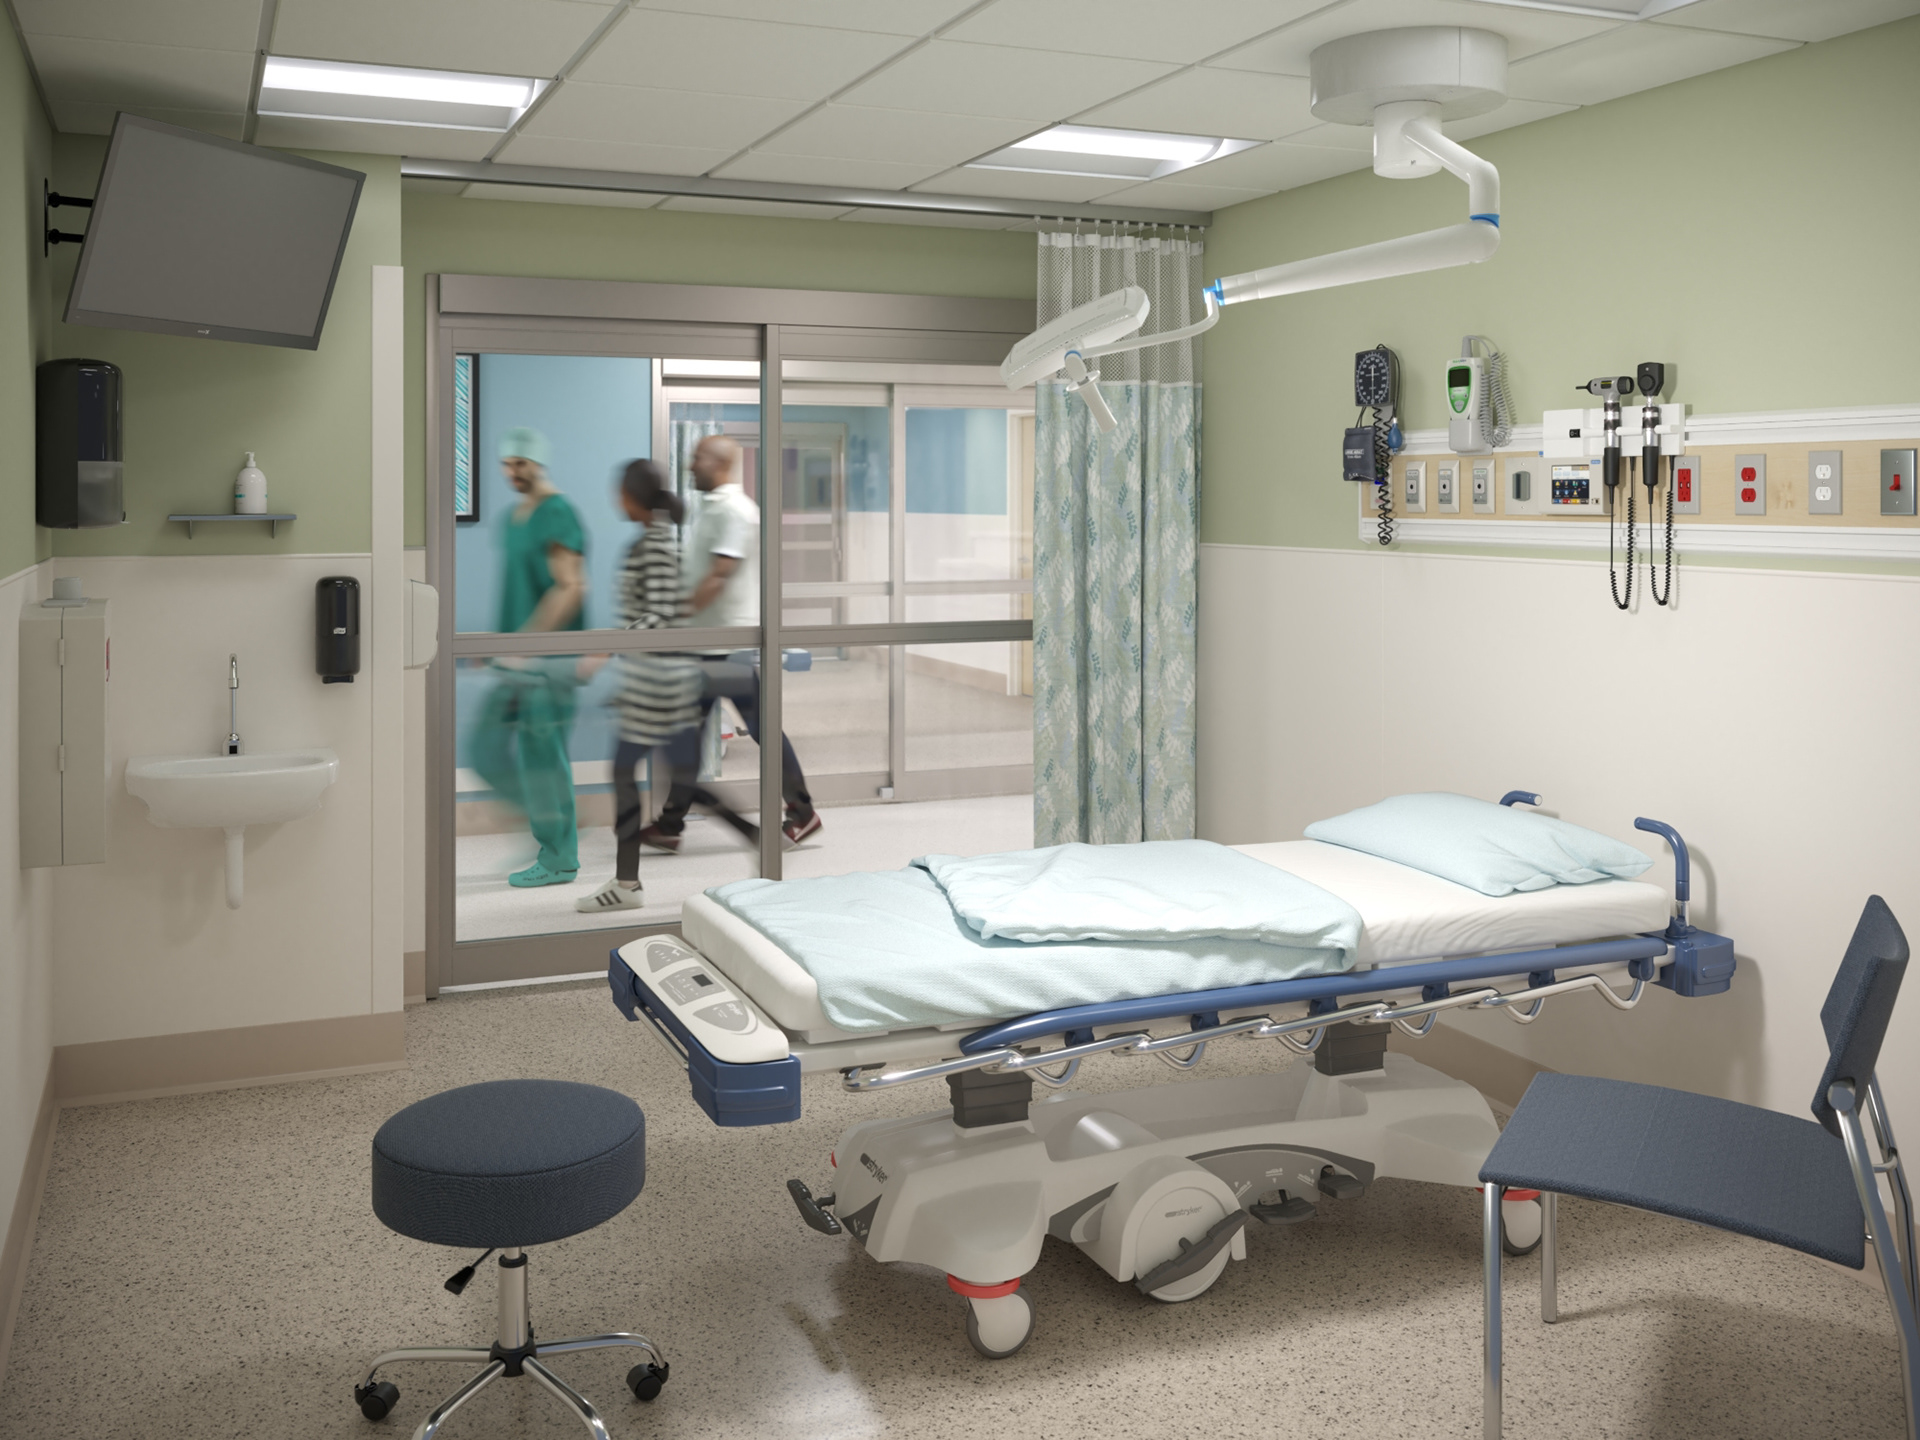TV: (55, 109, 358, 341)
chair: (1475, 876, 1914, 1440), (345, 1075, 678, 1440)
curtain: (1029, 248, 1200, 841)
dispenser: (28, 354, 151, 524), (296, 546, 369, 713), (235, 447, 278, 517)
faucet: (218, 635, 281, 752)
hospital_bed: (611, 785, 1730, 1361)
medical_waste_container: (4, 575, 117, 870)
person: (679, 416, 778, 877), (604, 452, 703, 913)
sink: (116, 746, 347, 914)
staff: (475, 423, 589, 879)
surgical_light: (1001, 284, 1151, 432)
